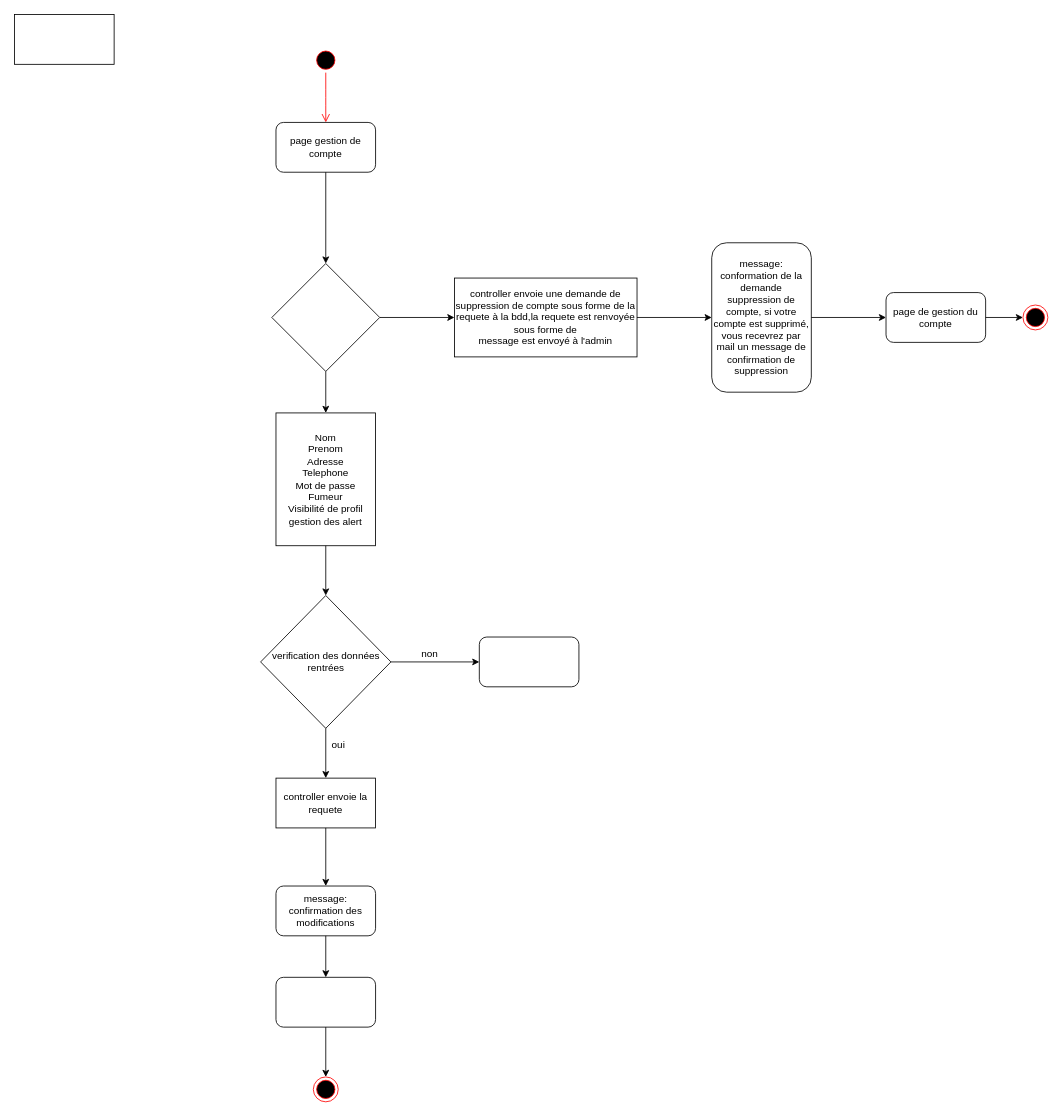
This 1062x1116 diagram has some shape labels left out. The shapes that lost their labels are listed below. From the top down, each one's box as (x1, y1, x2, y2) in pixels, then its label:
(14, 14, 114, 64): gestion du compte profil du membre
(271, 263, 380, 371): au clic sur la suppression du compte
(478, 636, 579, 687): message: données invalides
(275, 976, 376, 1027): actualisation de la page
